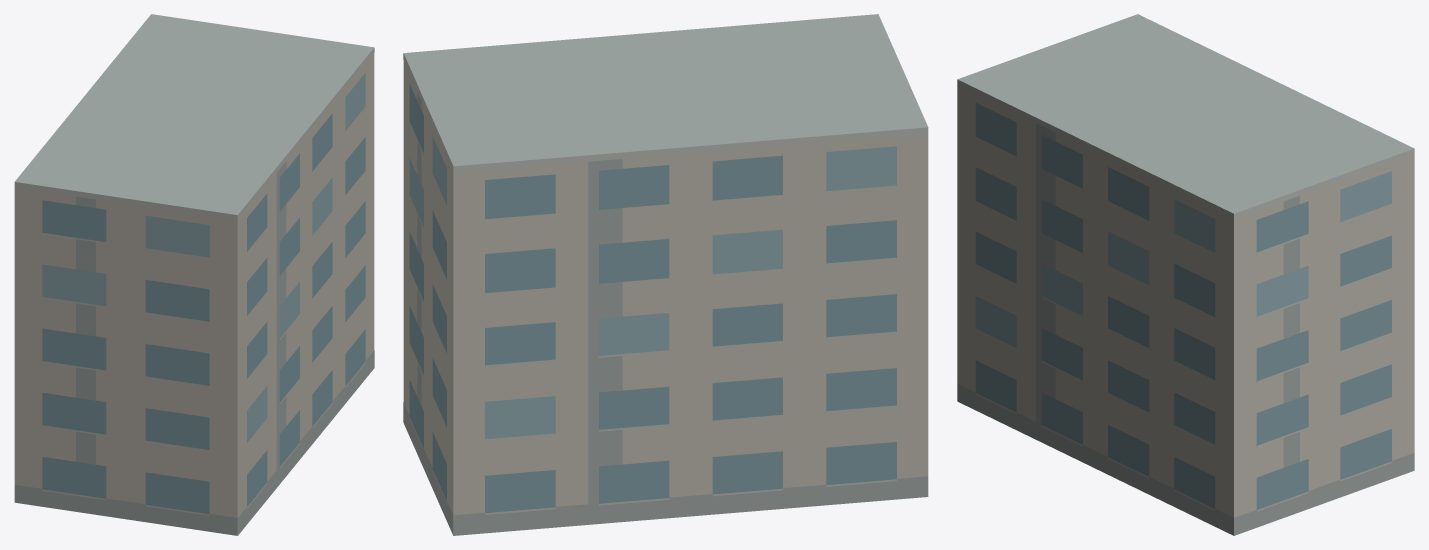
Rendered from survey-upis-32629876.glb.
3 renders of one model, left to right at view 1: azimuth 30°, elevation 25°; view 2: azimuth 150°, elevation 25°; view 3: azimuth 270°, elevation 25°, orthographic. The views are drawn at different scales.
Visible parts, largest first — view 1: survey-upis-32629876.tmp; view 2: survey-upis-32629876.tmp; view 3: survey-upis-32629876.tmp.
Part boxes in pixels (x1,y1,x2,y2): survey-upis-32629876.tmp: (14,14,374,535); survey-upis-32629876.tmp: (403,14,928,535); survey-upis-32629876.tmp: (957,14,1414,535).
Bounding box in the file's own units: 18.66 × 14.02 × 18.05.
